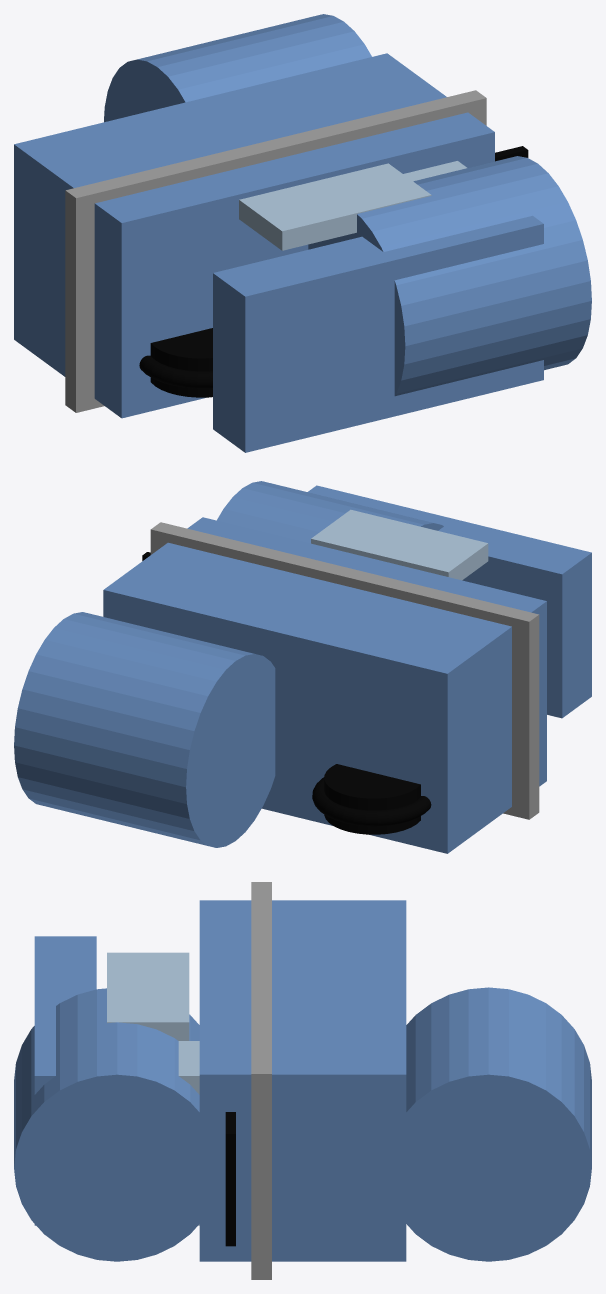
The model's file is car.glb.
3 views of the same model, one above another, from view 1: azimuth 30°, elevation 25°; view 2: azimuth 150°, elevation 25°; view 3: azimuth 270°, elevation 25° (orthographic). The views are drawn at different scales.
Visible parts, largest first — view 1: geometry_0, geometry_1, geometry_5, geometry_2, geometry_3; view 2: geometry_0, geometry_1, geometry_5, geometry_2, geometry_3; view 3: geometry_0, geometry_5, geometry_2, geometry_1, geometry_6.
Boxes of the visible parts, <box> form: geometry_0: <box>14,14,591,418</box>; geometry_1: <box>213,215,543,452</box>; geometry_5: <box>65,90,486,412</box>; geometry_2: <box>239,161,466,250</box>; geometry_3: <box>139,328,212,397</box>; geometry_0: <box>14,481,546,853</box>; geometry_1: <box>307,485,591,718</box>; geometry_5: <box>150,522,539,819</box>; geometry_2: <box>311,509,488,580</box>; geometry_3: <box>312,764,431,834</box>; geometry_0: <box>14,900,591,1261</box>; geometry_5: <box>251,882,271,1279</box>; geometry_2: <box>107,952,199,1225</box>; geometry_1: <box>34,936,96,1225</box>; geometry_6: <box>225,1112,235,1246</box>.
Size of the model in its own units: 2.35 by 1.1 by 2.8.
